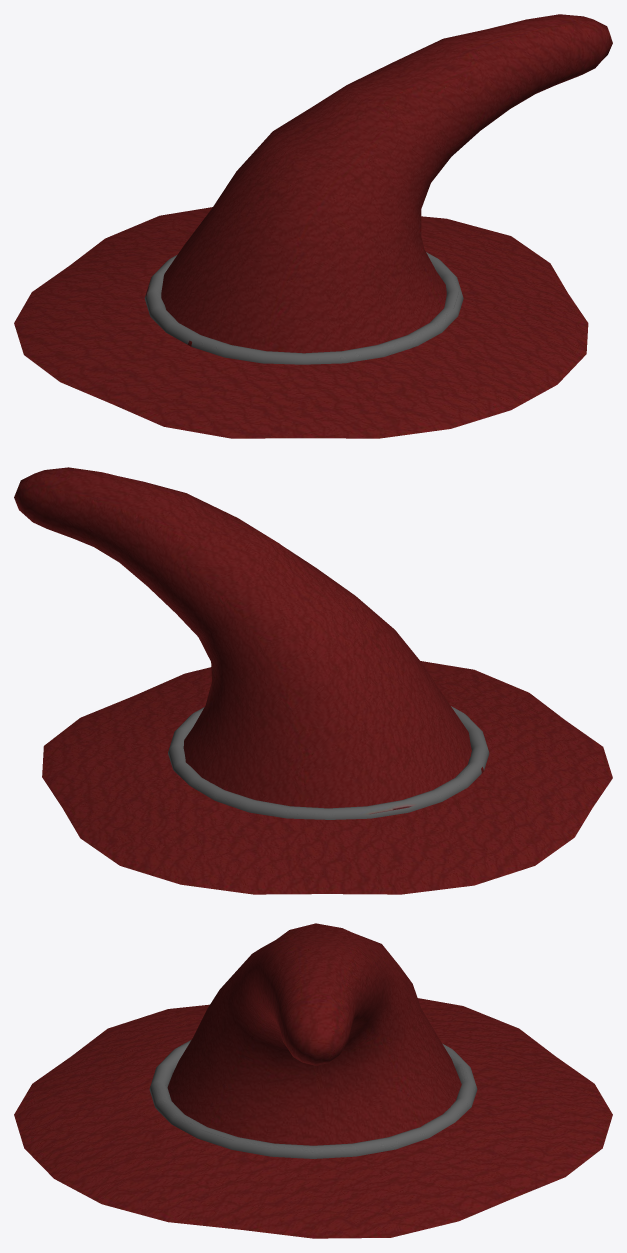
The model's file is HAT1.fbx.
The picture shows the model from 3 angles, top to bottom: view 1: azimuth 30°, elevation 25°; view 2: azimuth 150°, elevation 25°; view 3: azimuth 270°, elevation 25°; orthographic projection. The views are drawn at different scales.
Parts seen in each view (by area): view 1: HAT_1; view 2: HAT_1; view 3: HAT_1.
Boxes of the visible parts, box(x1,y1,x2,y2) form: HAT_1: box(14, 14, 612, 438); HAT_1: box(14, 467, 612, 894); HAT_1: box(14, 923, 612, 1238).
Bounding box in the file's own units: 6565 × 2770 × 6000.
